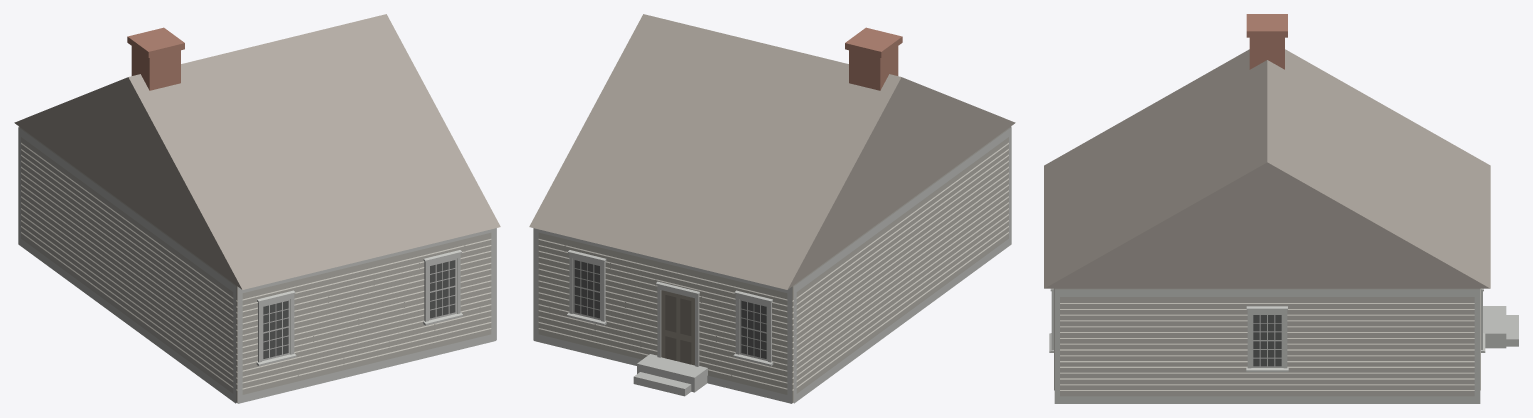
Rendered from recon_1835_south_d5_034__inferred_1835.glb.
The picture shows the model from 3 angles, left to right: view 1: azimuth 30°, elevation 25°; view 2: azimuth 150°, elevation 25°; view 3: azimuth 270°, elevation 25°; orthographic projection. The views are drawn at different scales.
Visible parts, largest first — view 1: recon_1835_south_d5_034__inferred_1835; view 2: recon_1835_south_d5_034__inferred_1835; view 3: recon_1835_south_d5_034__inferred_1835.
Boxes of the visible parts, <box> form: recon_1835_south_d5_034__inferred_1835: <box>14,14,500,403</box>; recon_1835_south_d5_034__inferred_1835: <box>529,14,1015,403</box>; recon_1835_south_d5_034__inferred_1835: <box>1044,14,1518,403</box>.
Size of the model in its own units: 7.08 by 7.11 by 11.29.
